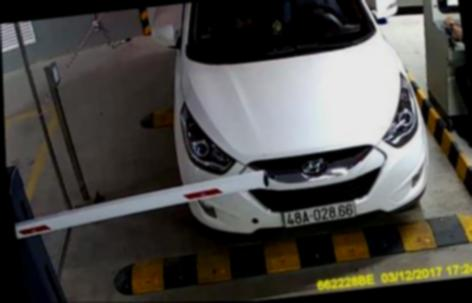License_Plate: (276, 185, 369, 238)
